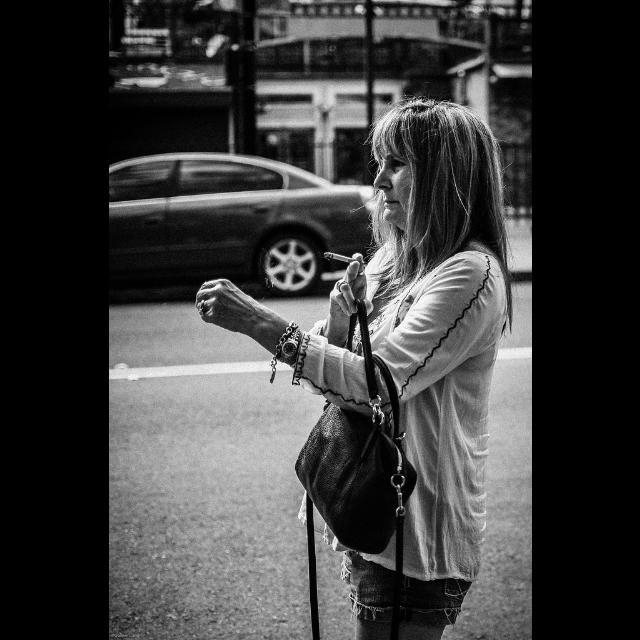rokok: (318, 251, 356, 265)
